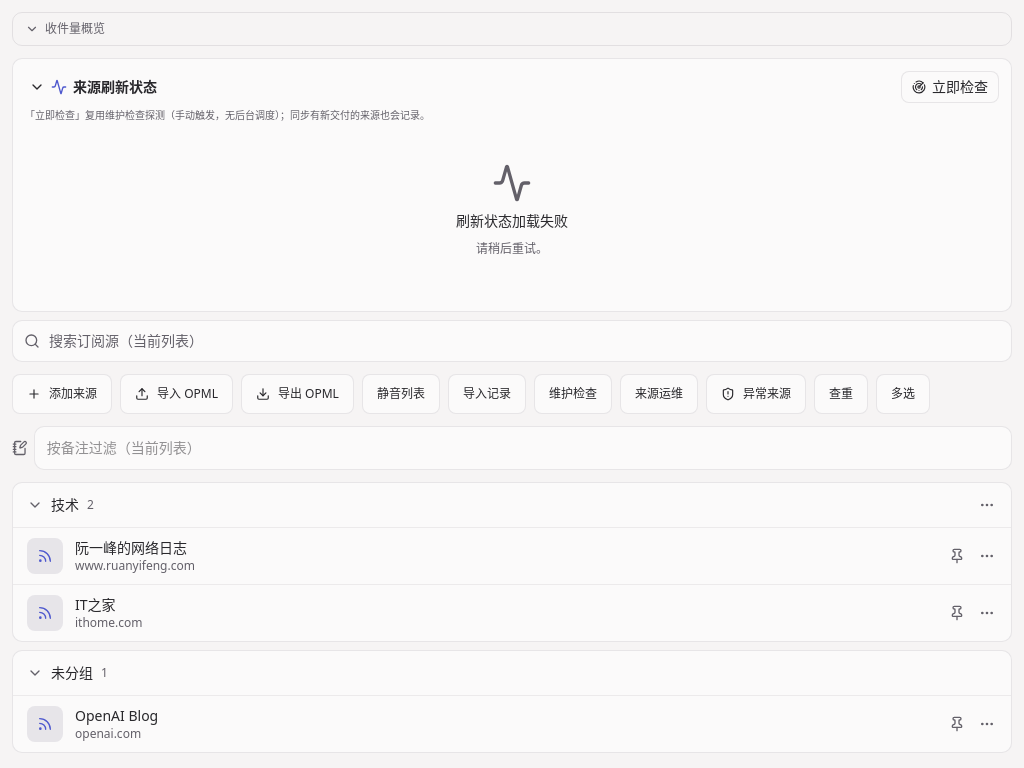
it: SubscriptionsPage（AC11） › 本地过滤：输入关键词 → 只剩匹配项；分组计数同步
This screenshot has width=1024, height=768.
Expected: the text "阮一峰的网络日志" is shown, x1=75 y1=538 x2=187 y2=556
In the search field labelled "搜索订阅源": (512,340) x1=12 y1=320 x2=1012 y2=362, type "IT之家"
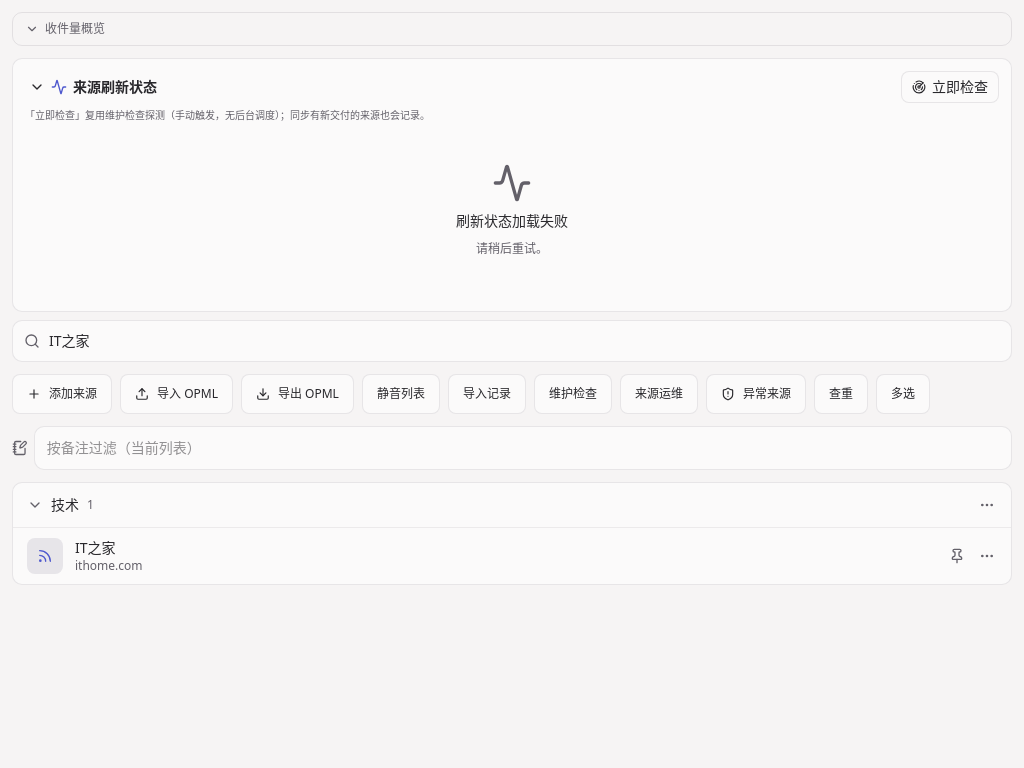
Now the button "阮一峰的网络日志" is gone
Now the button "OpenAI Blog" is gone
Now the button "技术 1" is shown, box x1=13 y1=482 x2=971 y2=526
